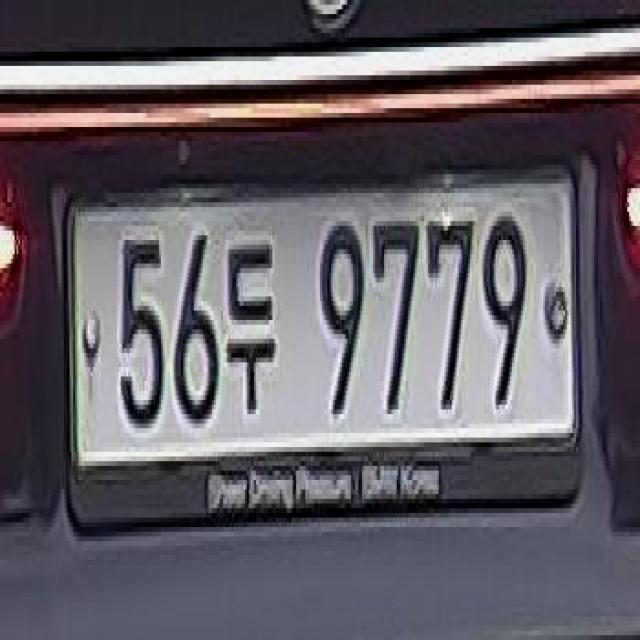illegal_plate: (66, 164, 590, 532)
